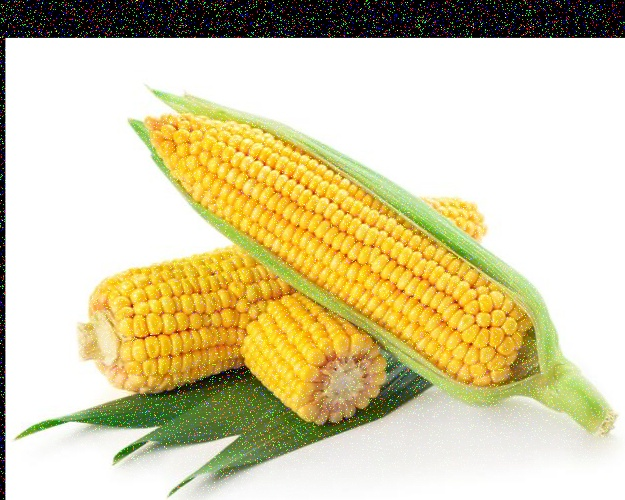corn: (154, 106, 583, 411), (95, 200, 487, 373)
